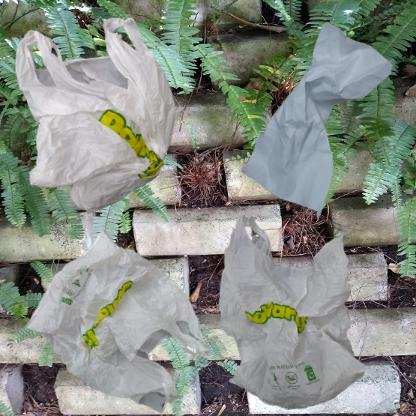bolsa: (10, 213, 226, 416), (10, 10, 192, 226), (213, 213, 377, 416)
papel: (213, 10, 416, 243)
